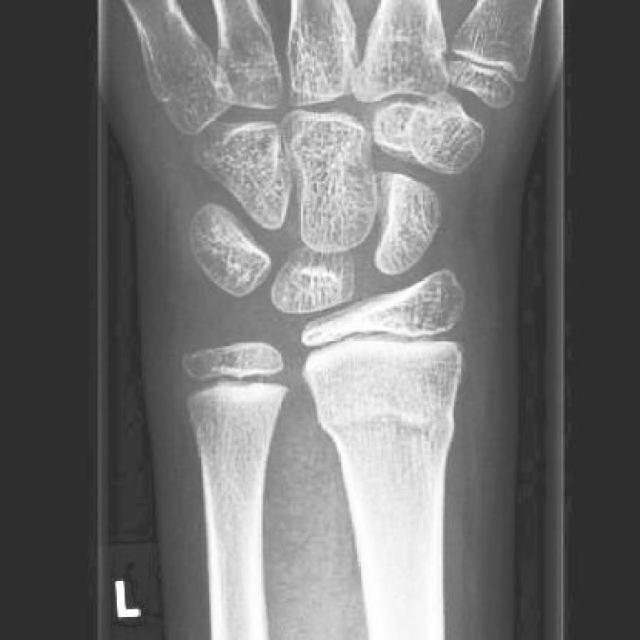Fracture: (312, 388, 457, 446)
